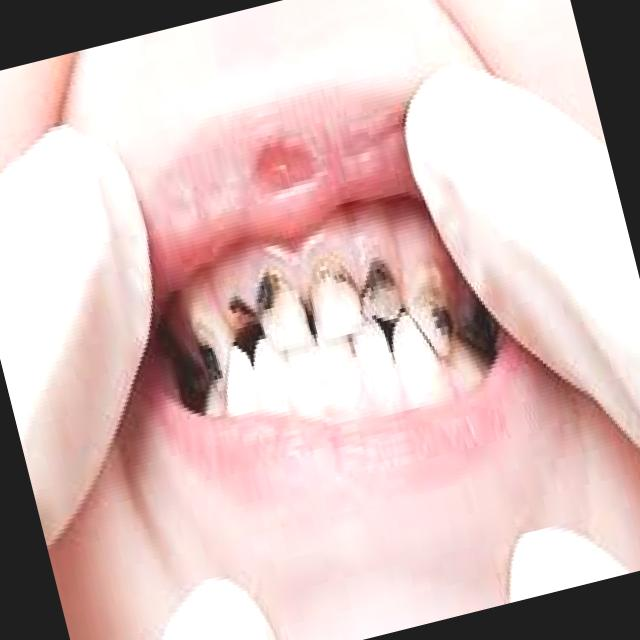caries: (412, 262, 468, 352), (353, 242, 405, 322), (246, 246, 294, 323), (300, 247, 358, 309), (189, 313, 229, 387), (220, 280, 259, 339)
